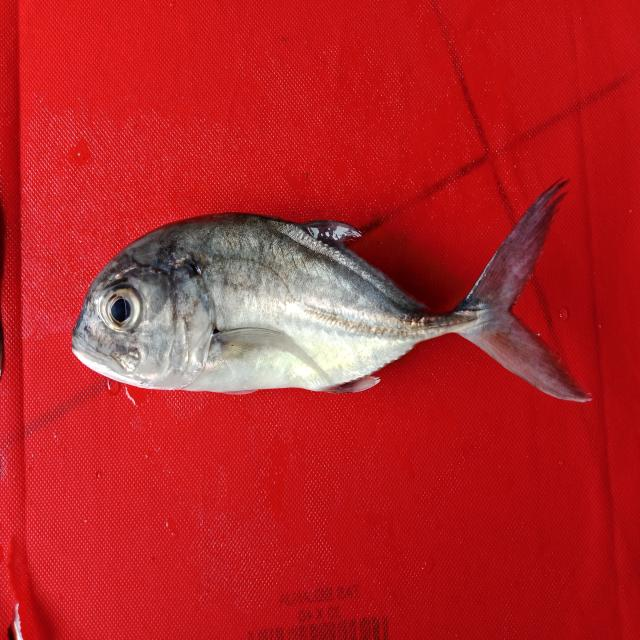ikan: (70, 176, 593, 404)
